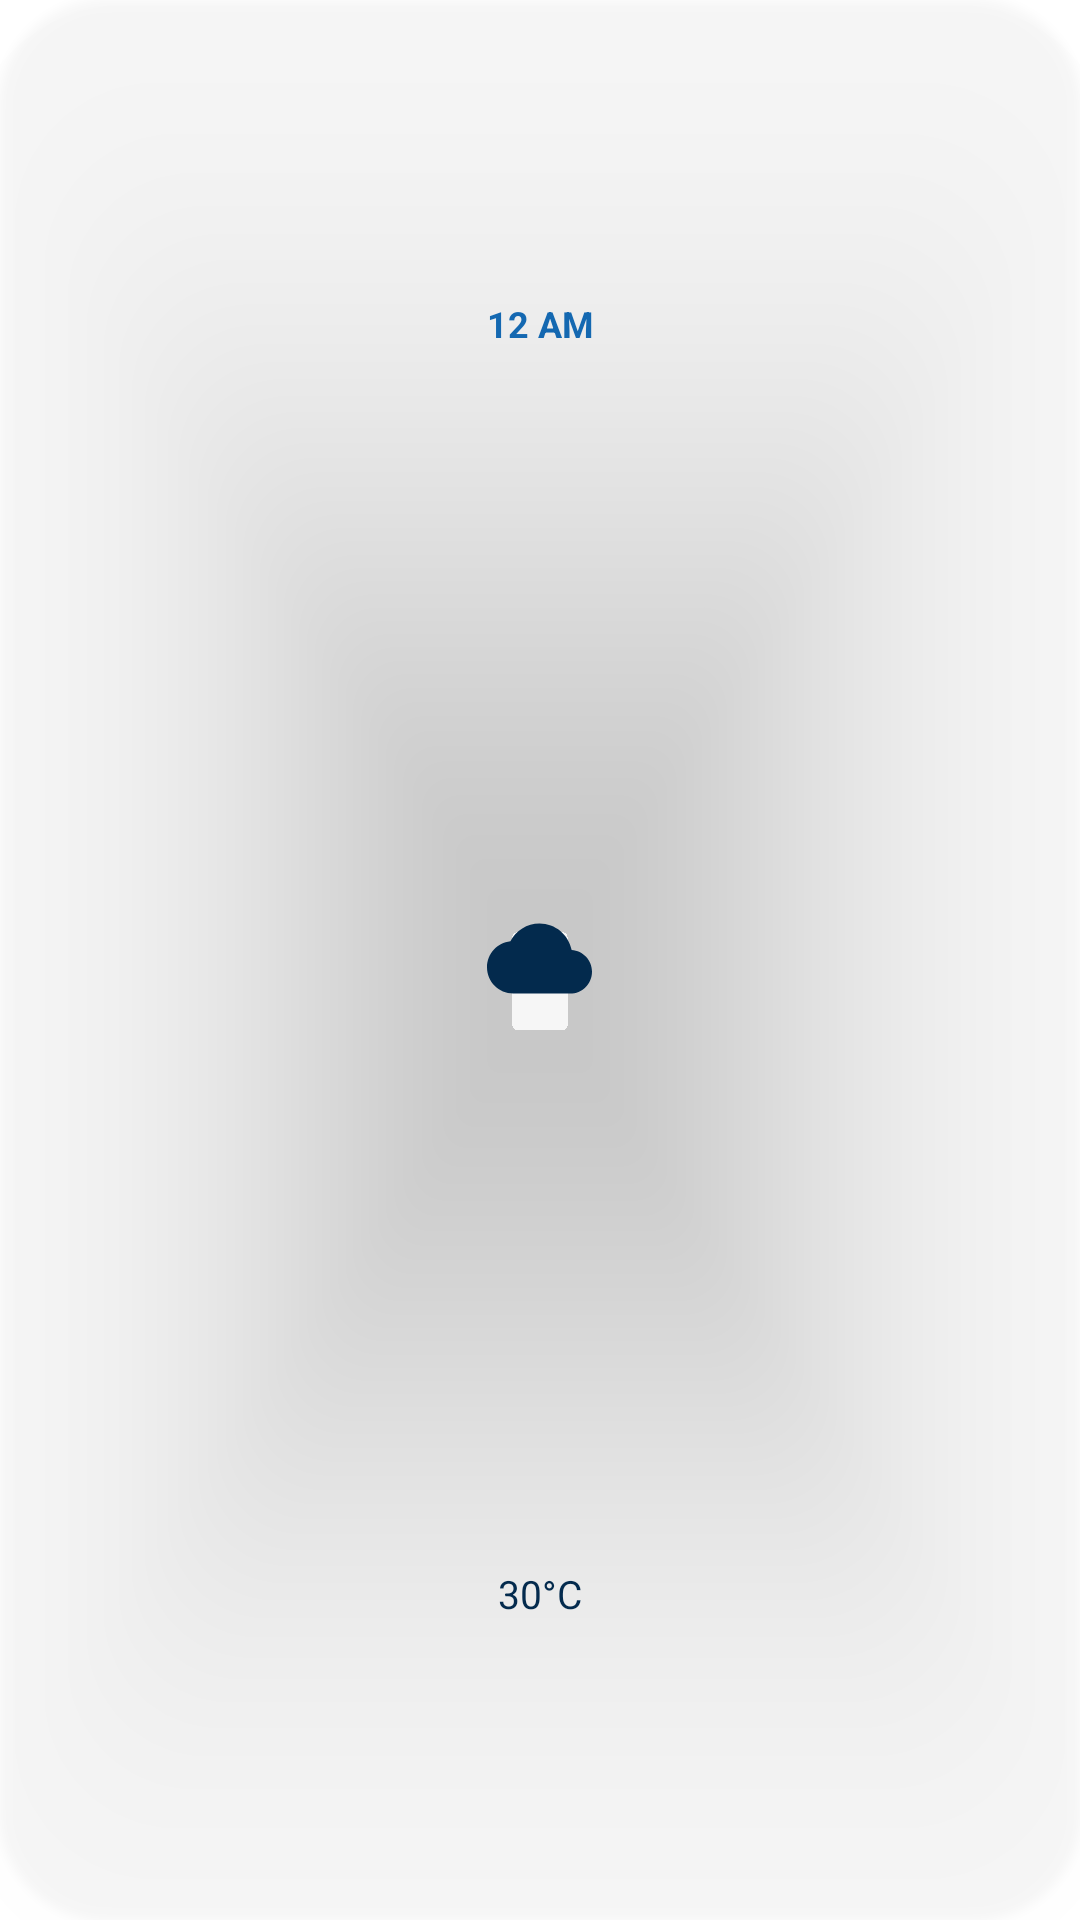

Point at icon controls on the screen. Image size 1080 × 1920, points as (x,y).
cloud: (539,976)
